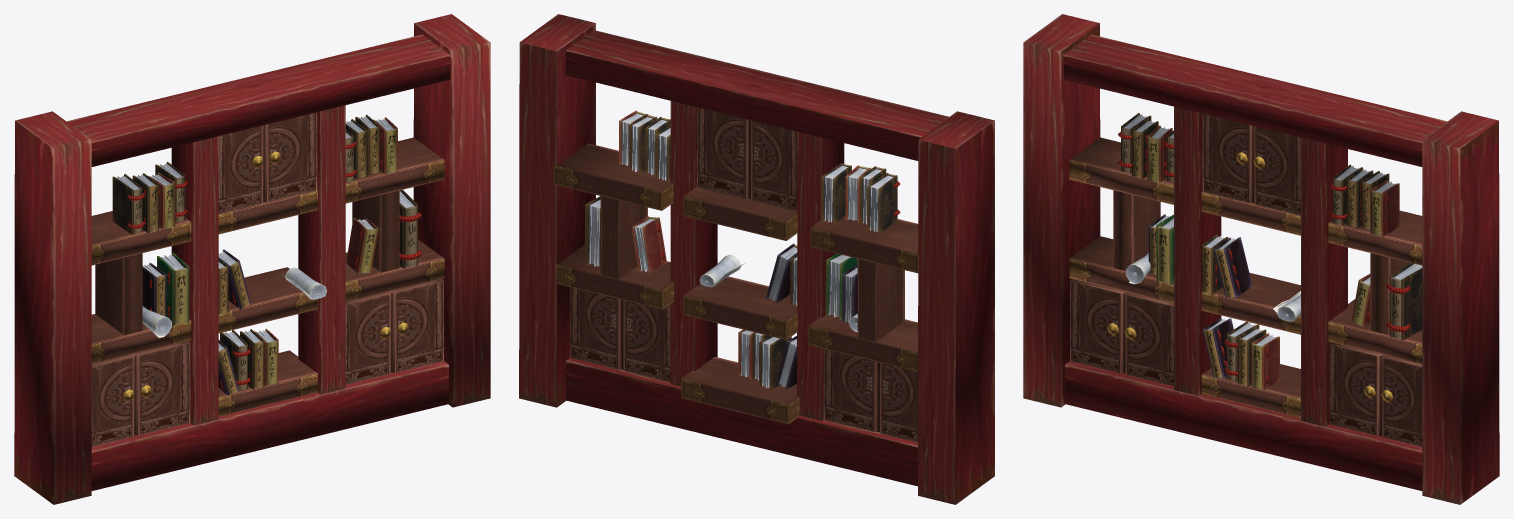
The picture shows the model from 3 angles, left to right: view 1: azimuth 30°, elevation 25°; view 2: azimuth 150°, elevation 25°; view 3: azimuth 330°, elevation 25°; orthographic projection.
Size of the model in its own units: 9.32 by 7.26 by 1.49.
4 materials, 4 textured.
